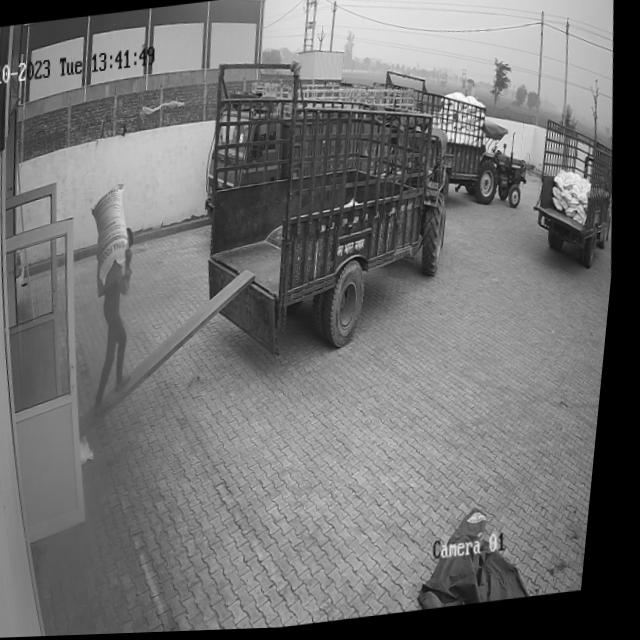sack: (87, 182, 140, 288)
